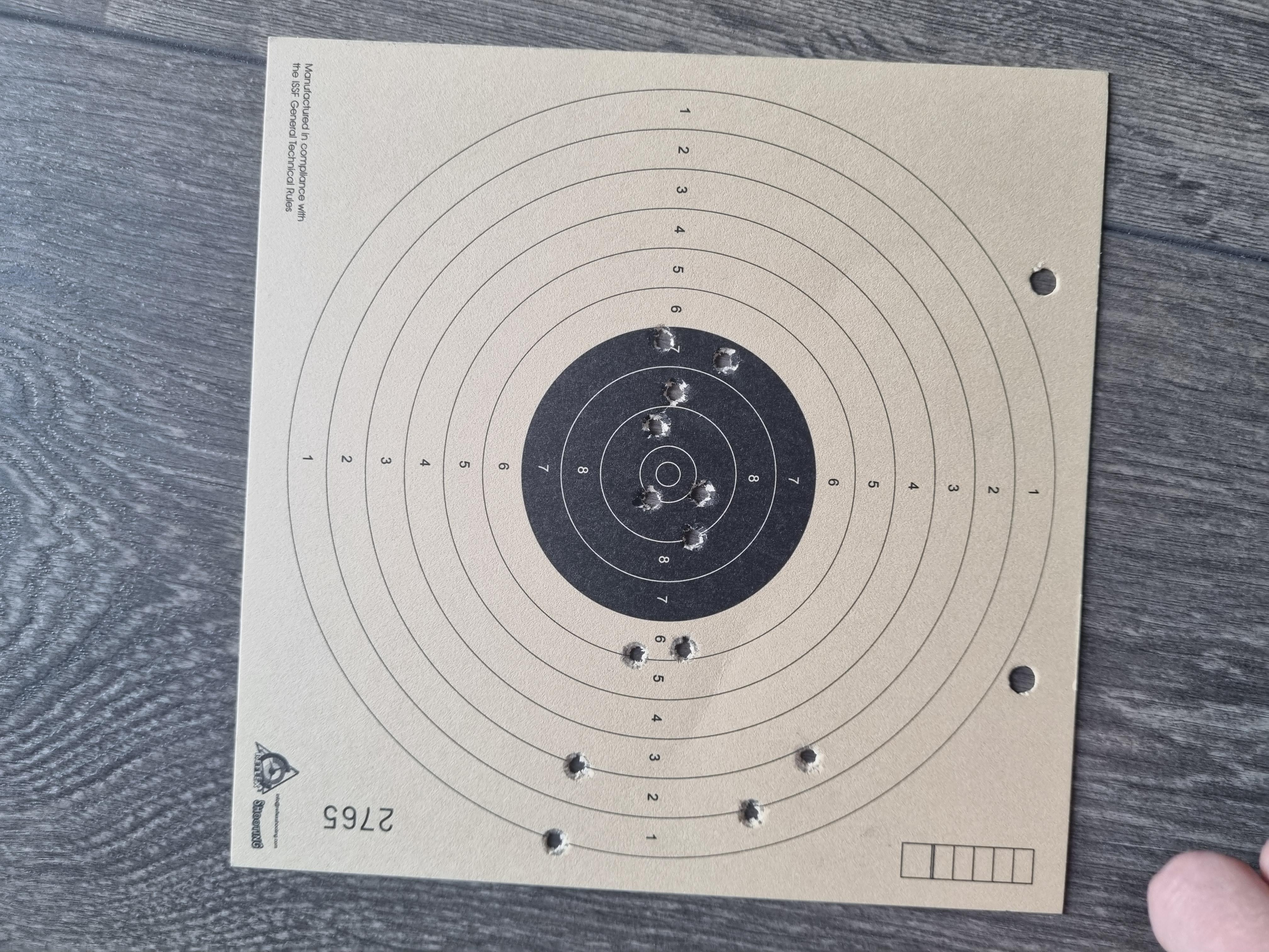hole: (680, 481, 721, 504), (237, 596, 278, 618), (126, 406, 164, 429), (228, 422, 267, 444), (768, 533, 806, 555), (375, 466, 414, 487), (164, 554, 203, 574), (585, 476, 622, 497), (385, 502, 420, 524), (726, 497, 764, 516), (593, 516, 629, 536), (535, 510, 570, 529), (798, 489, 832, 506)
